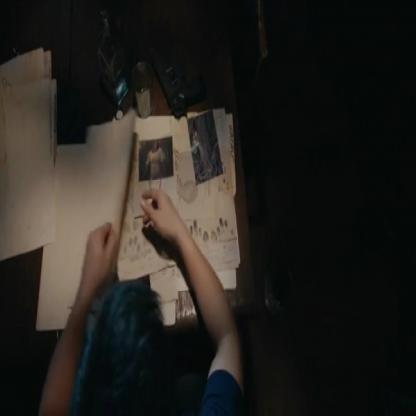Guns: (140, 28, 206, 125)
